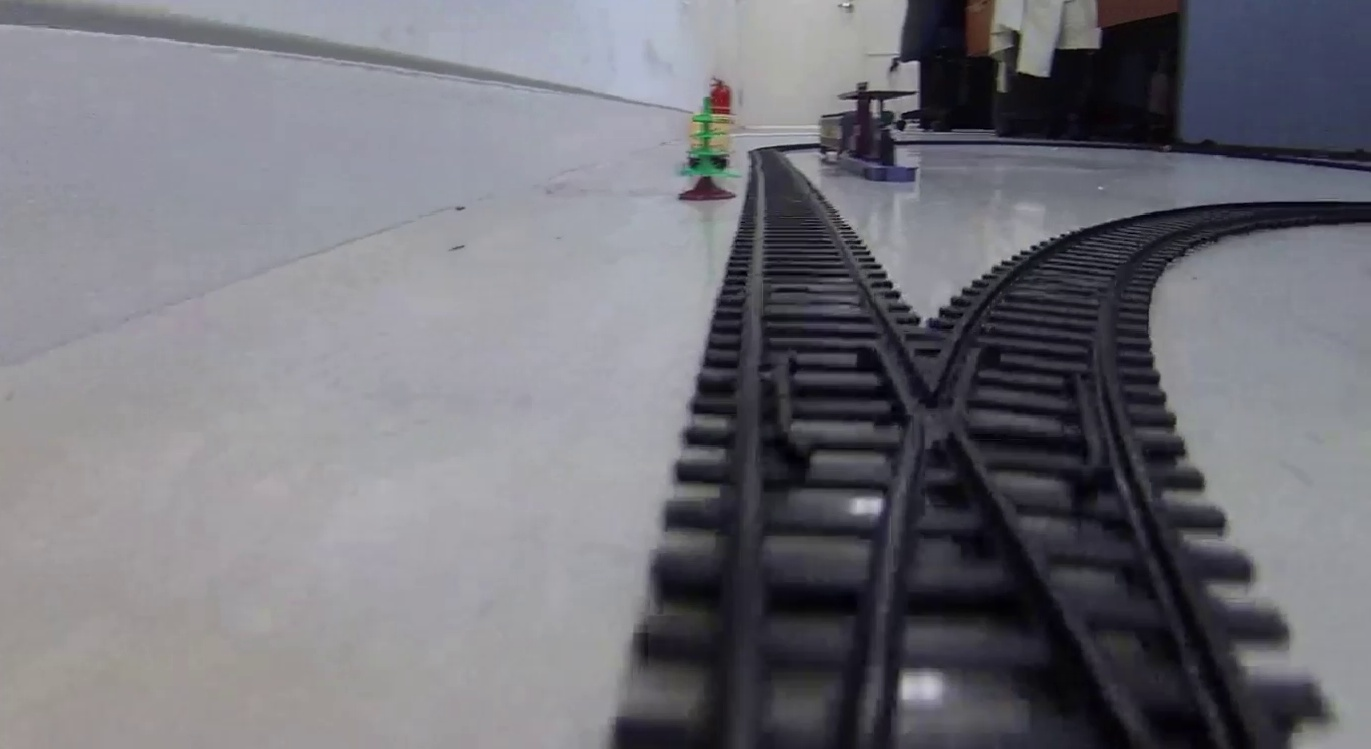tree: (678, 96, 734, 202)
